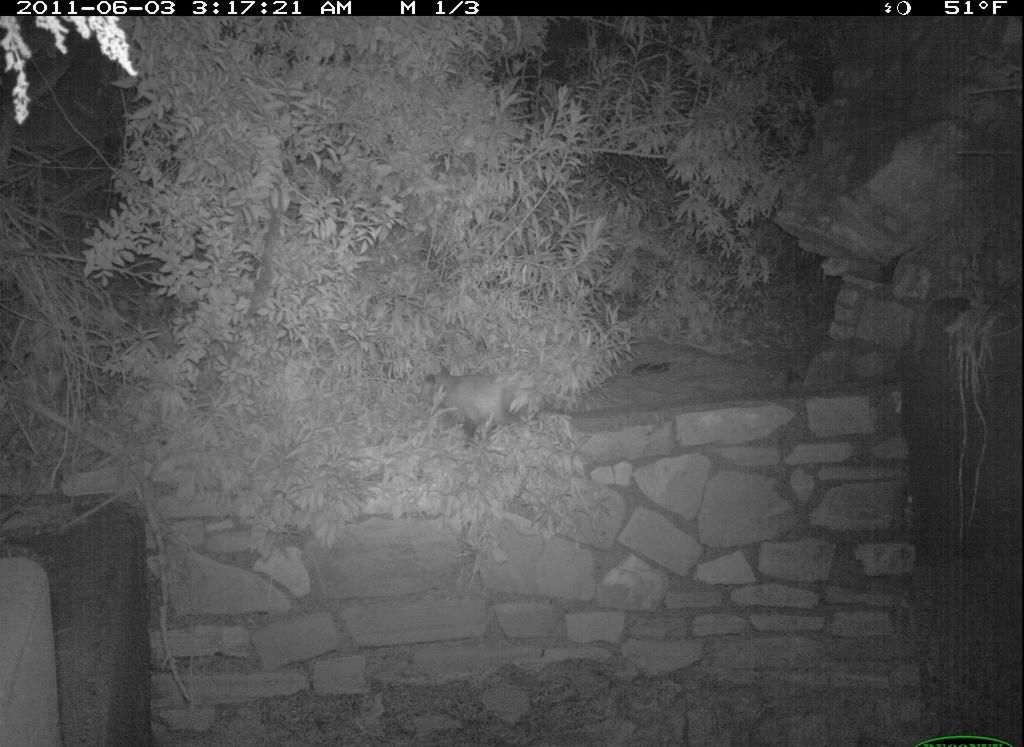opossum: (402, 363, 566, 457)
